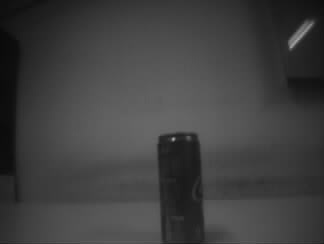Tin can: (156, 131, 202, 244)
